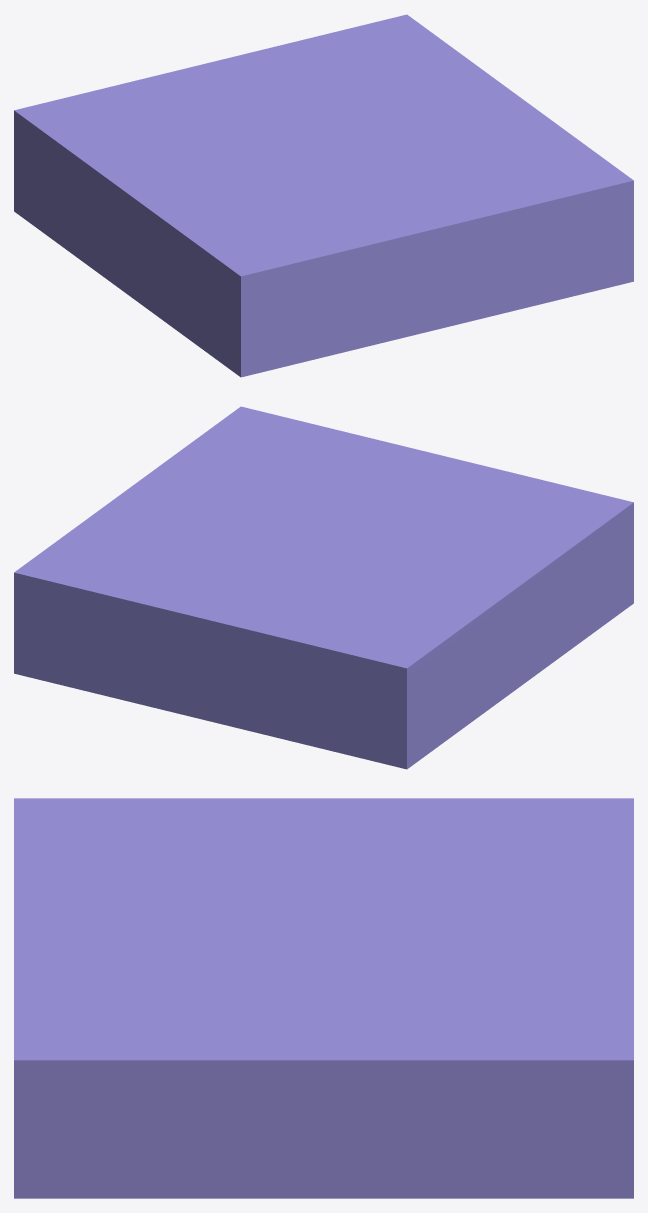
File: lamp light.fbx
The picture shows the model from 3 angles, top to bottom: view 1: azimuth 30°, elevation 25°; view 2: azimuth 150°, elevation 25°; view 3: azimuth 270°, elevation 25°; orthographic projection. The views are drawn at different scales.
Visible parts, largest first — view 1: pCylinder2; view 2: pCylinder2; view 3: pCylinder2.
Boxes of the visible parts, x1,y1,x2,y2 form: pCylinder2: [14, 14, 633, 377]; pCylinder2: [14, 406, 633, 769]; pCylinder2: [14, 798, 633, 1198].
Bounding box in the file's own units: 1.55 × 0.3807 × 1.55.
